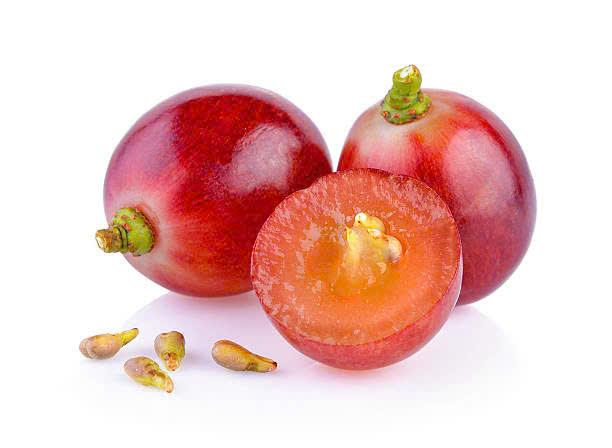grape: (66, 74, 587, 320), (252, 164, 453, 384)
